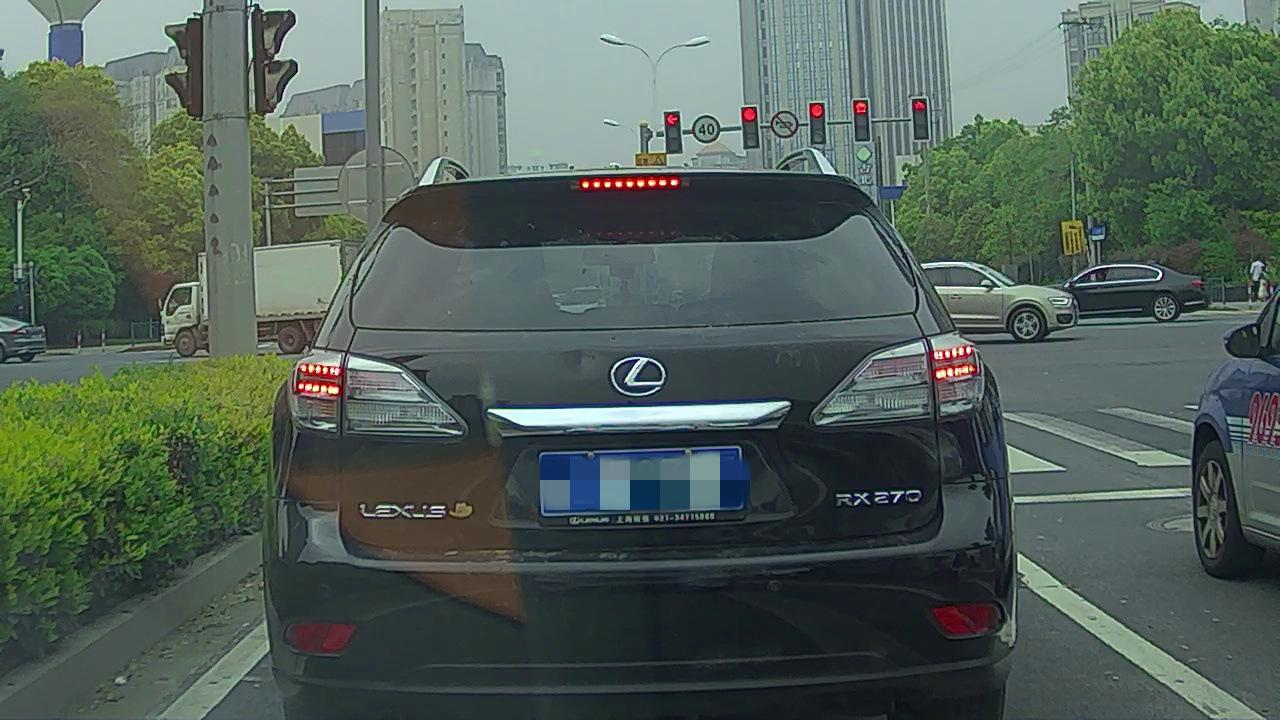traffic_light: (741, 107, 760, 149), (853, 98, 871, 142), (664, 112, 682, 153), (913, 96, 929, 141), (810, 103, 826, 144)
